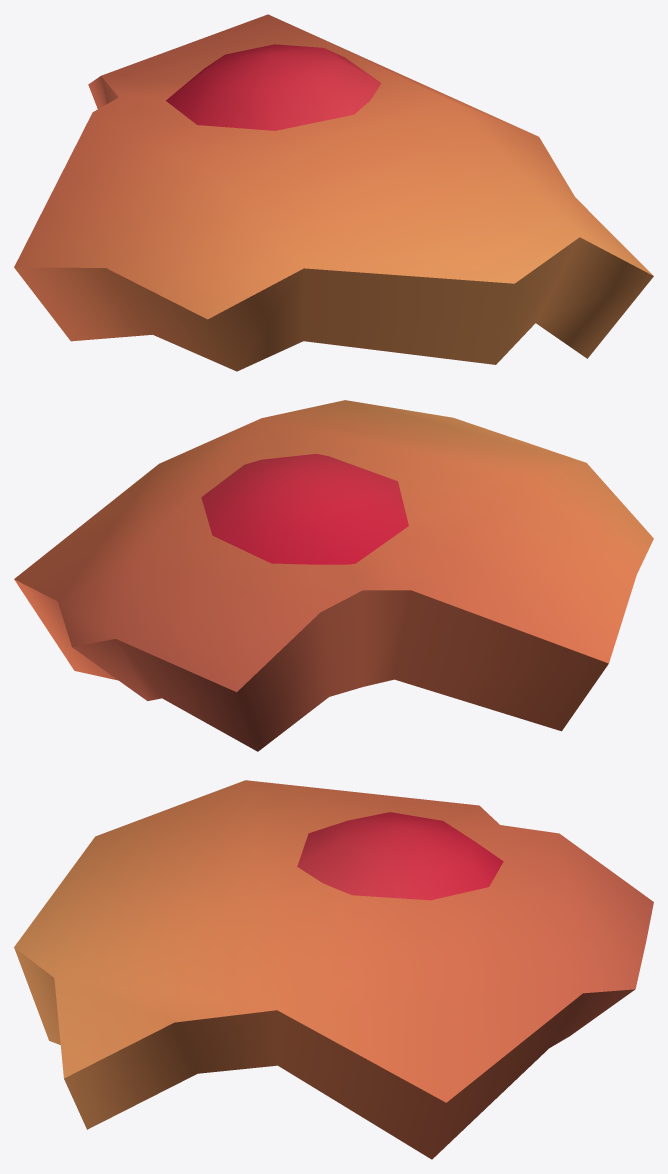
File: Egg_Particle_Red_002.fbx
3 renders of one model, top to bottom at view 1: azimuth 30°, elevation 25°; view 2: azimuth 150°, elevation 25°; view 3: azimuth 270°, elevation 25°, orthographic. The views are drawn at different scales.
Visible parts, largest first — view 1: Egg_Particle_Red_002; view 2: Egg_Particle_Red_002; view 3: Egg_Particle_Red_002.
Boxes of the visible parts, x1,y1,x2,y2 form: Egg_Particle_Red_002: (14, 14, 653, 371); Egg_Particle_Red_002: (14, 400, 653, 751); Egg_Particle_Red_002: (14, 780, 653, 1159).
Bounding box in the file's own units: 1.52 × 0.6162 × 1.55.
